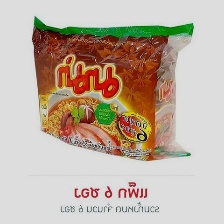snack: (24, 10, 201, 165)
